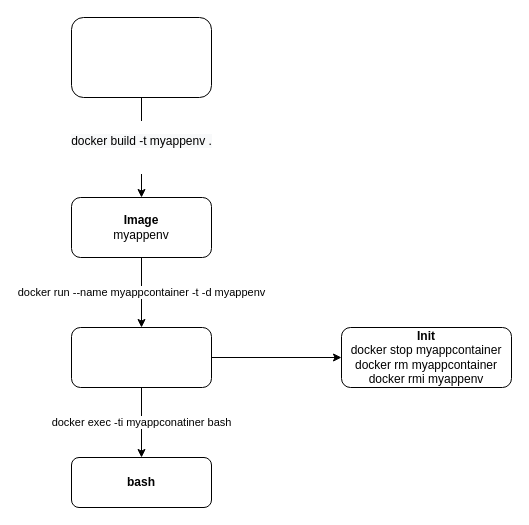
Some shapes in this 529 by 525 pixel diagram are drawn without their labels. Here are the shapes that lost their labels. From the top down, the box of each, then its label:
(70, 16, 212, 98): Dockerfile Ubuntu cyclonedds cyclonedds-cxx
(70, 326, 212, 388): Container myappcontainer
